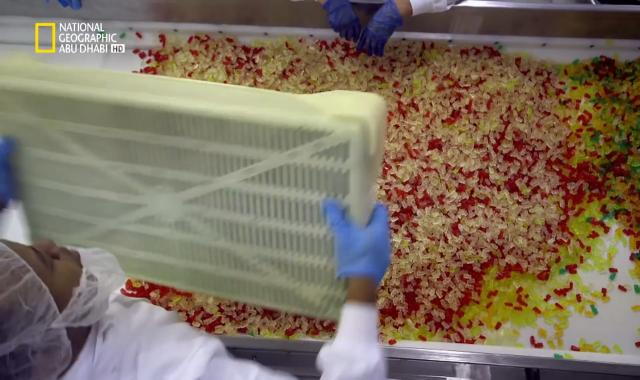hairnet: (0, 244, 72, 372)
